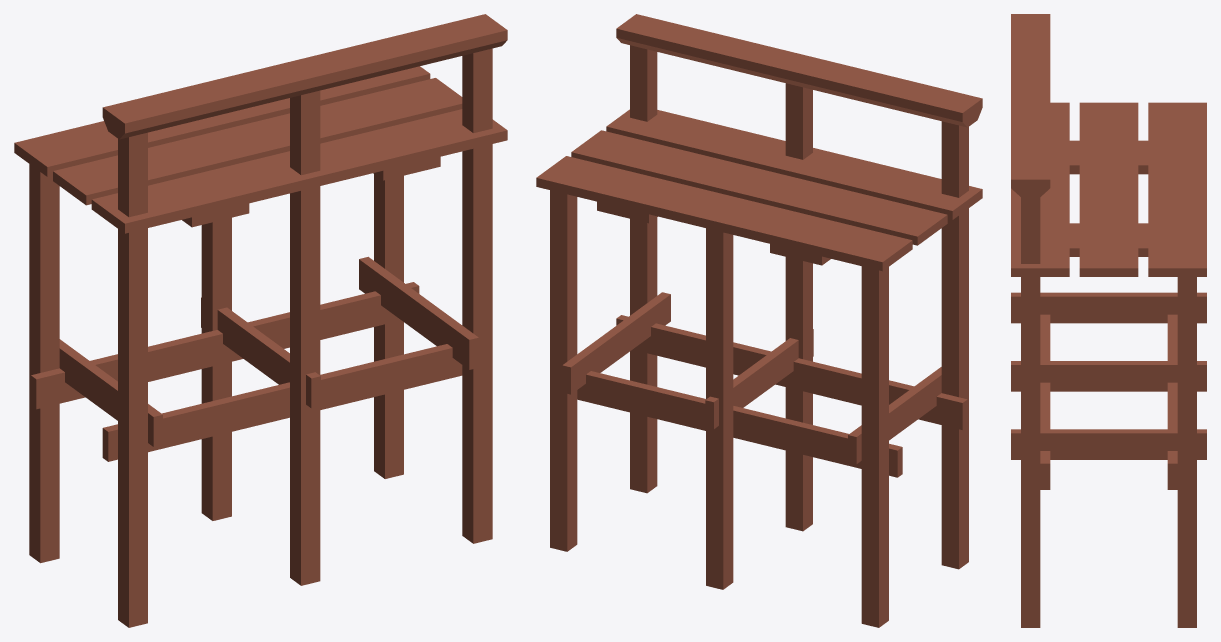
The model's file is scaffold_small_high_railing_long 1.fbx.
3 renders of one model, left to right at view 1: azimuth 30°, elevation 25°; view 2: azimuth 150°, elevation 25°; view 3: azimuth 270°, elevation 25°, orthographic. The views are drawn at different scales.
Visible parts, largest first — view 1: scaffold_small_high_railing_long; view 2: scaffold_small_high_railing_long; view 3: scaffold_small_high_railing_long.
Boxes of the visible parts, box(x1,y1,x2,y2) form: scaffold_small_high_railing_long: box(14, 14, 507, 627); scaffold_small_high_railing_long: box(536, 14, 982, 627); scaffold_small_high_railing_long: box(1011, 14, 1206, 627).
Size of the model in its own units: 400 by 510 by 200.
